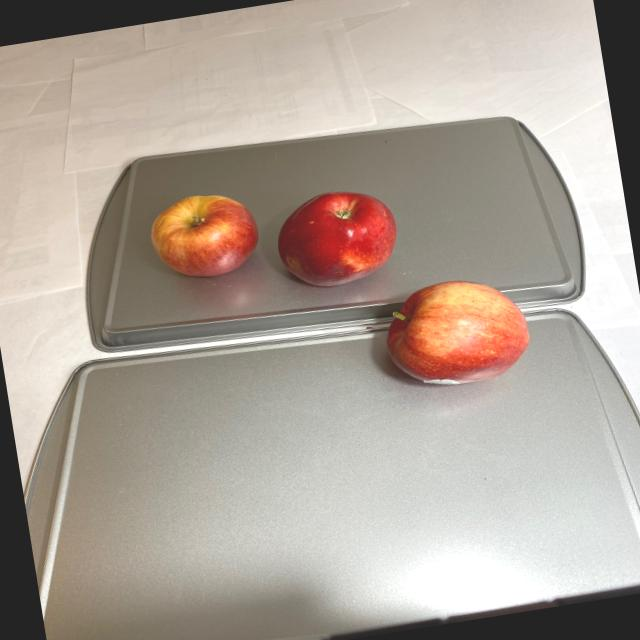apple: (147, 144, 536, 430)
